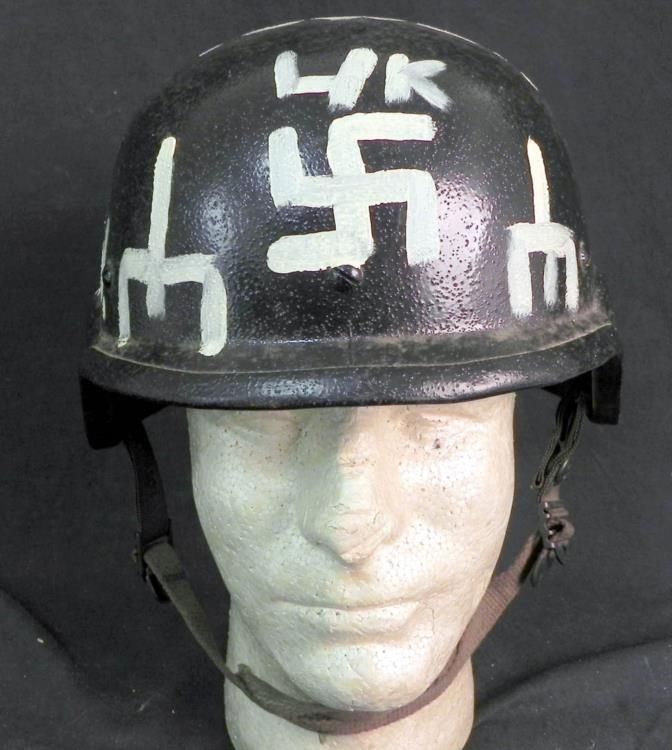with_helmet: (74, 15, 633, 433)
